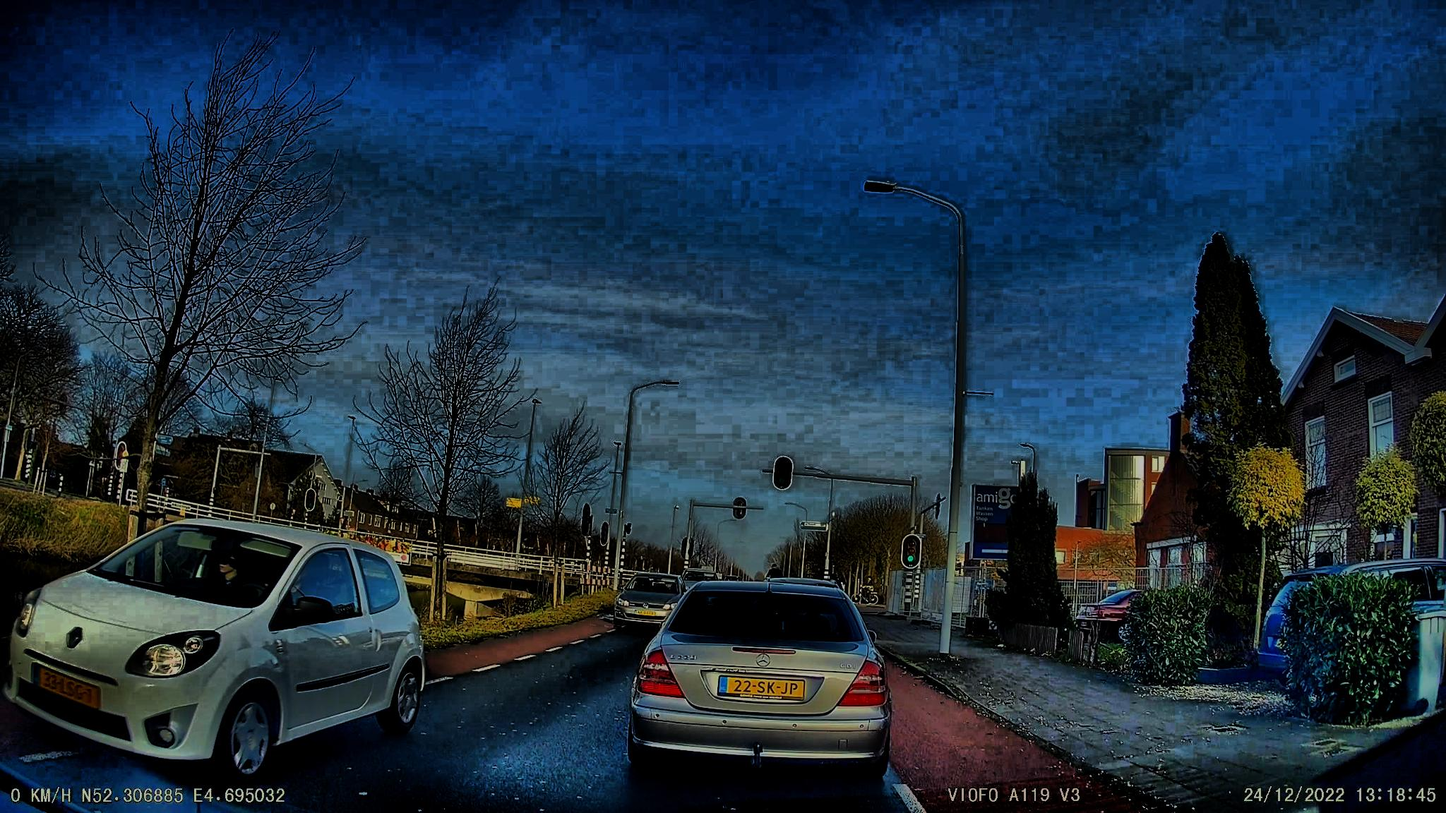Roads: (0, 624, 1111, 813)
